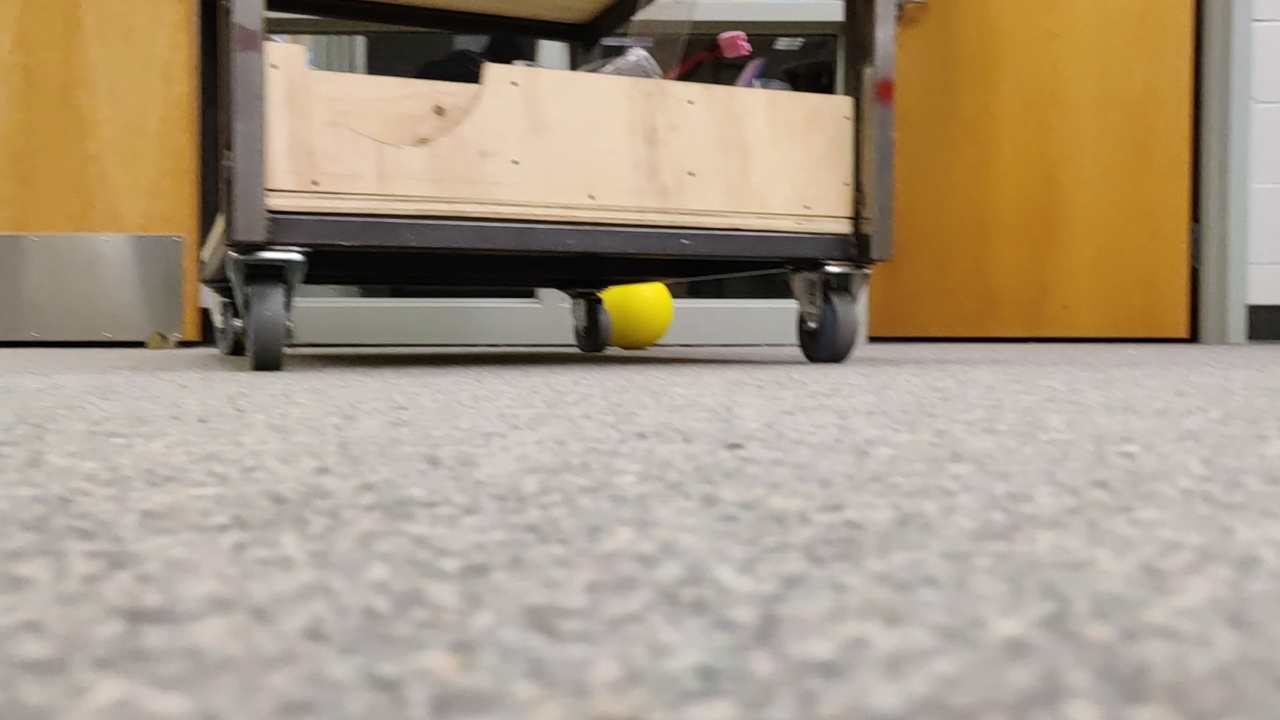Ball: (573, 280, 673, 350)
